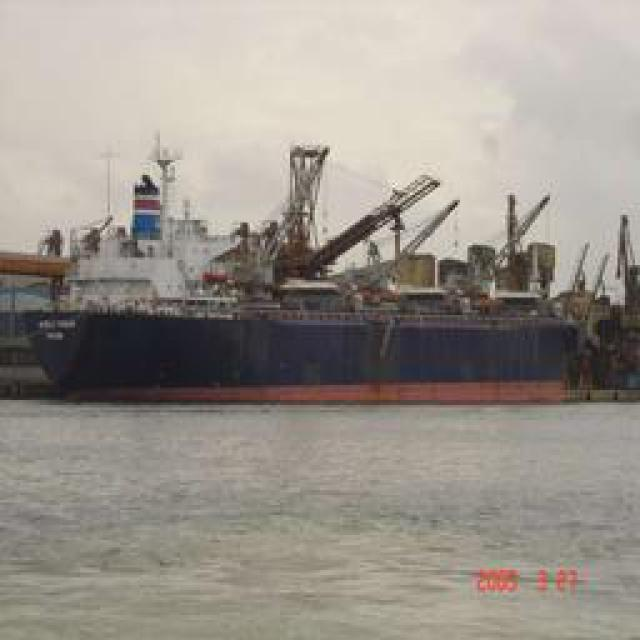Ship: (24, 133, 579, 388)
